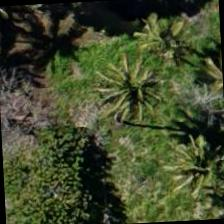Kelapa_Sawit: (85, 41, 180, 136), (151, 120, 223, 215)
